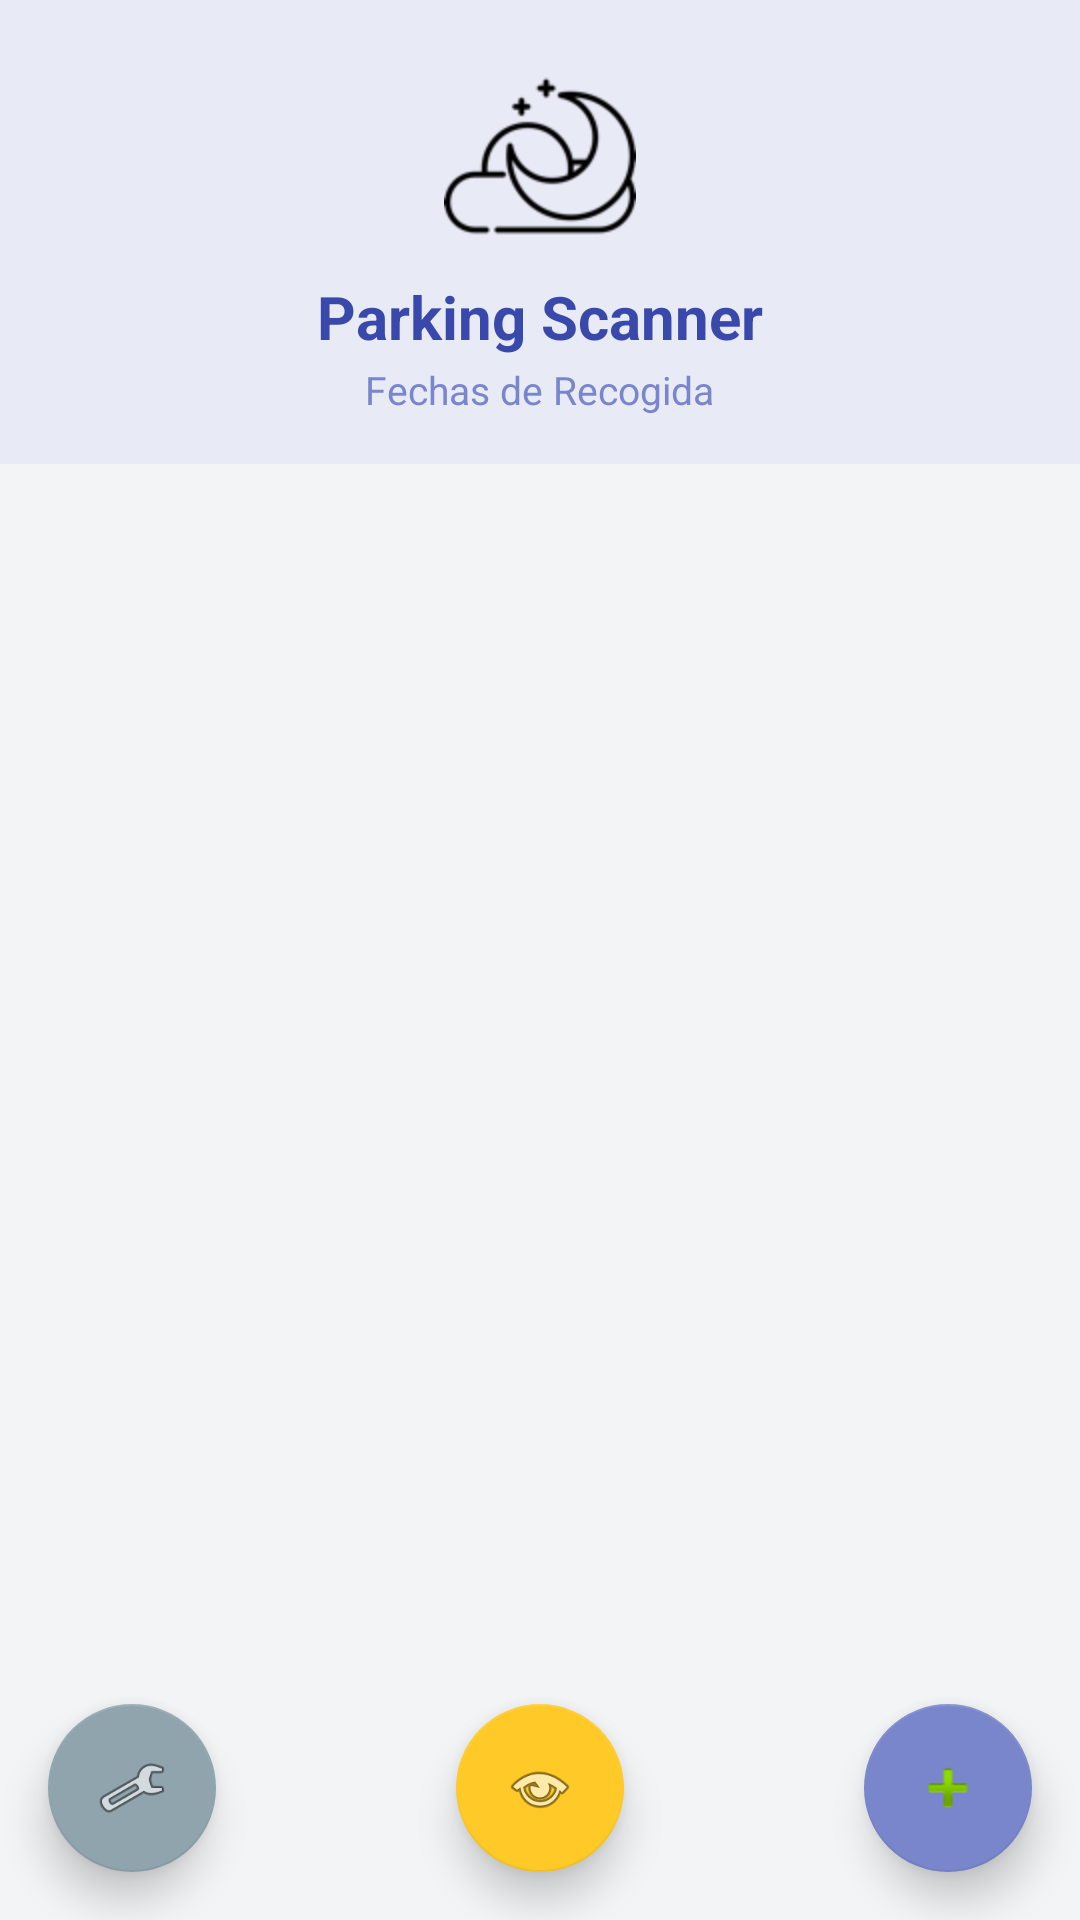

Named icons in this screenshot (1080x1920) and their centers, [x,y]:
Gestionar catalogos: [132,1788]
Nueva fecha de recepcion: [948,1788]
